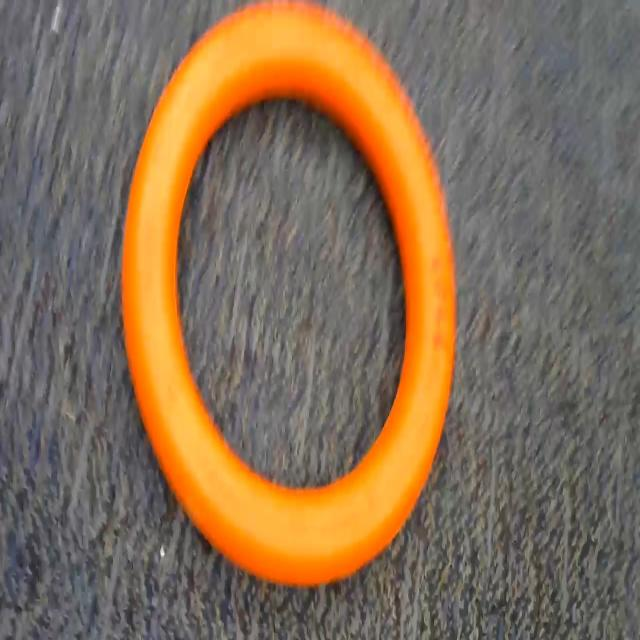note: (122, 0, 461, 591)
